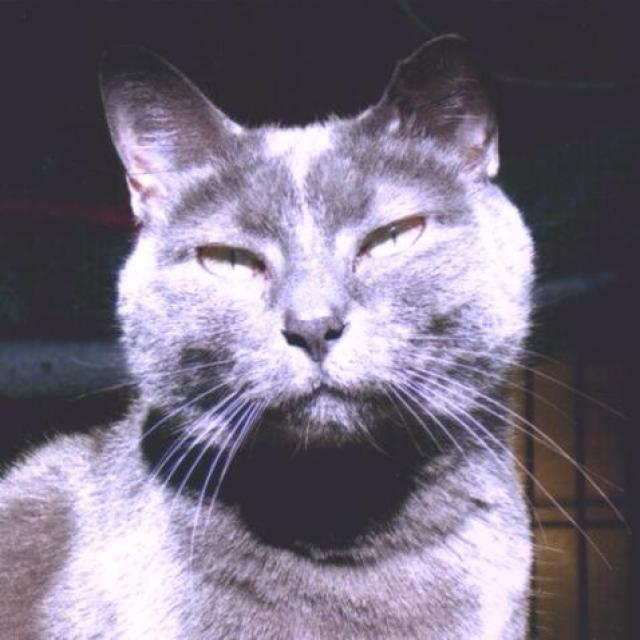Cats: (0, 31, 631, 638)
